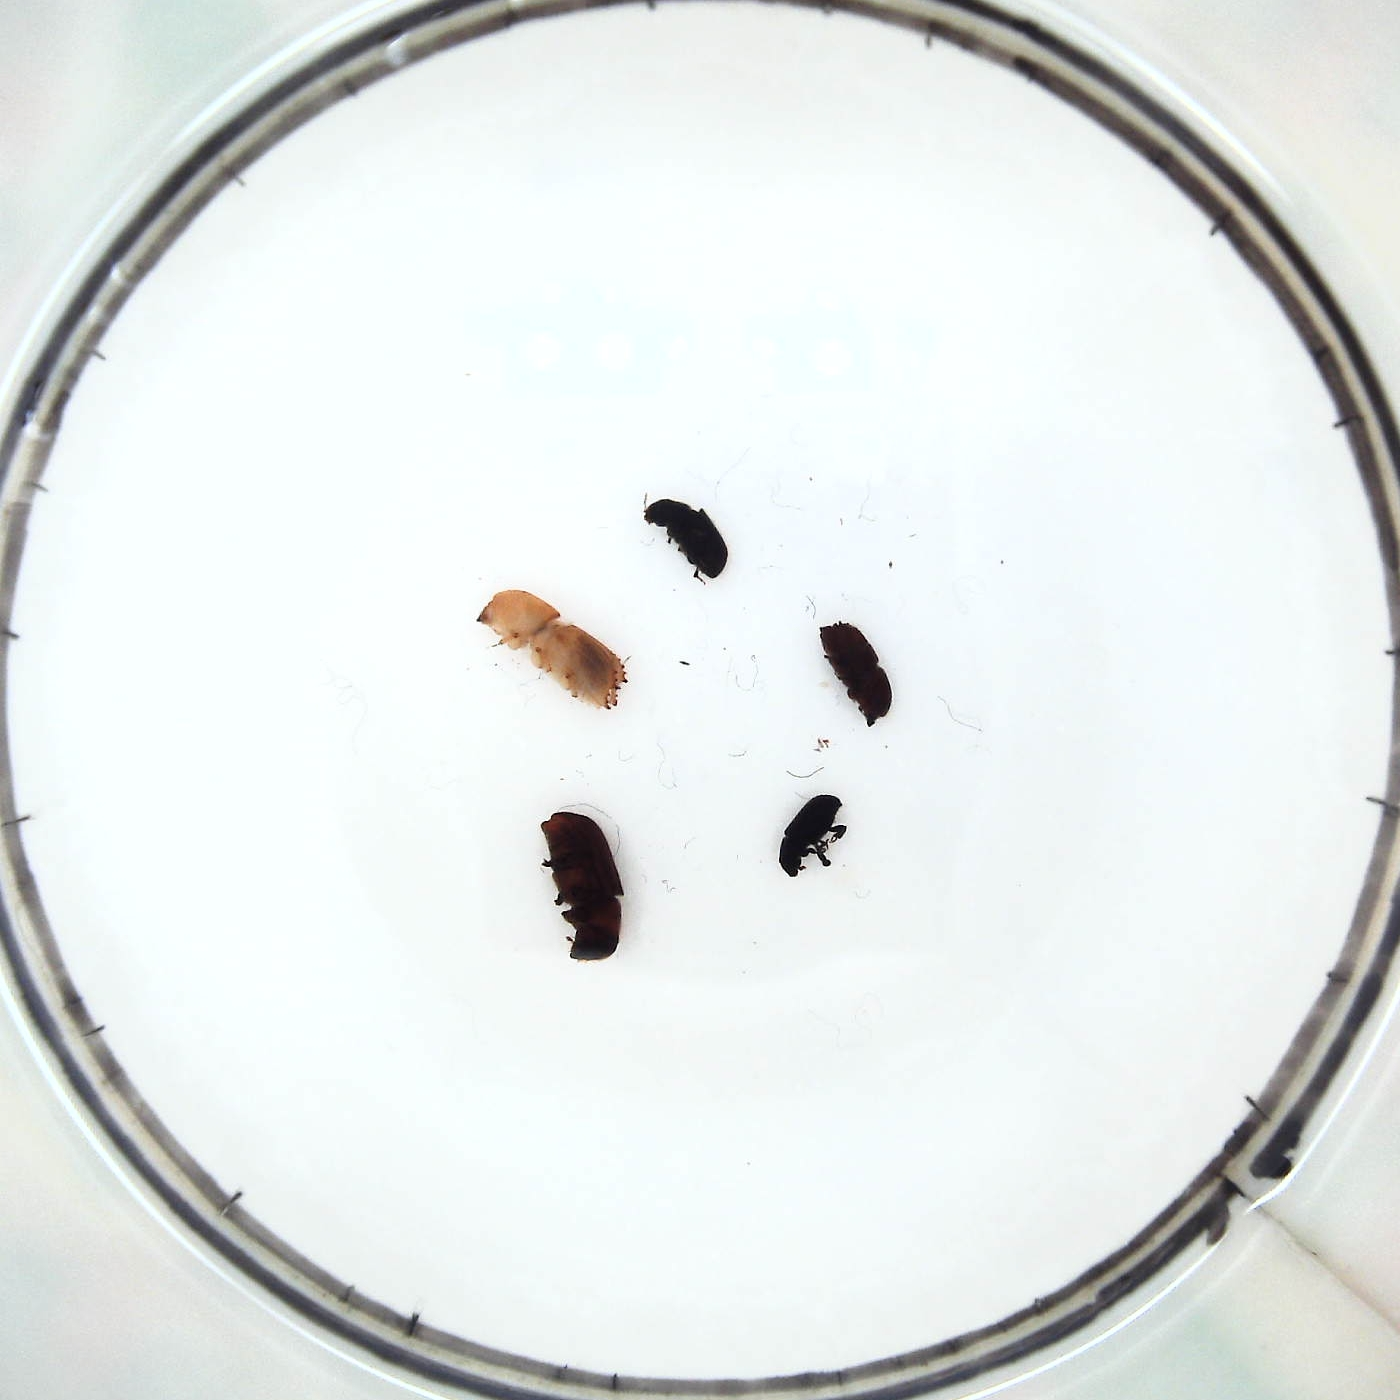Boerner: (471, 586, 632, 713)
Leconte: (542, 806, 626, 964)
Linnaeus: (818, 615, 894, 729)
armandi: (644, 494, 729, 581)
coleoptera: (781, 794, 844, 881)
